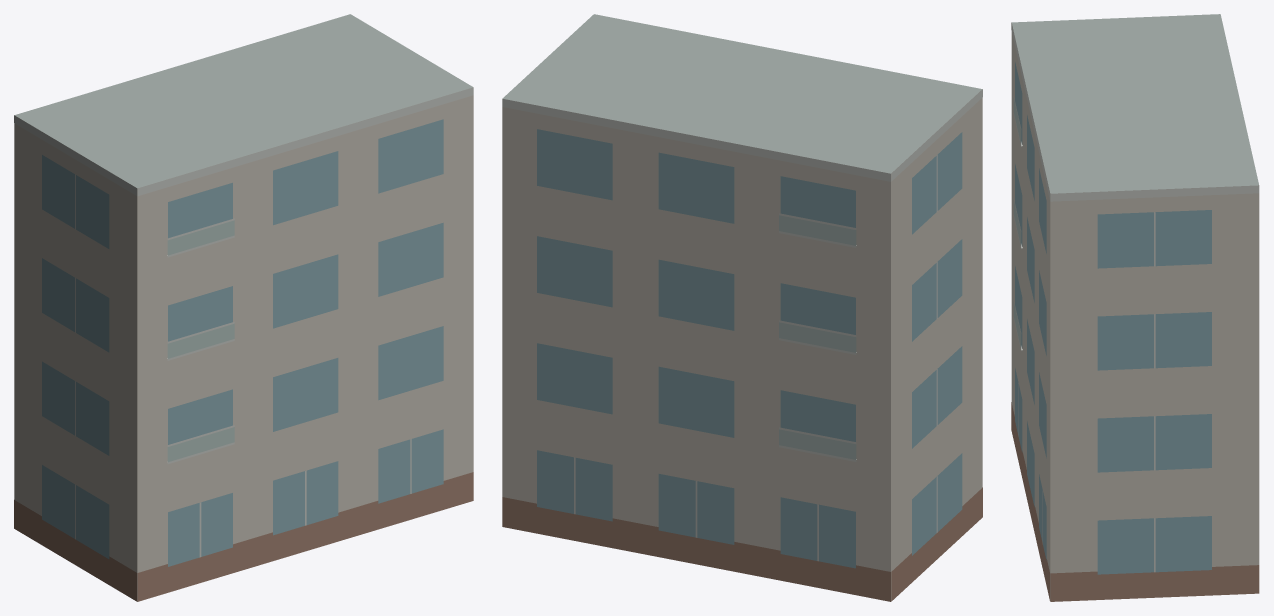
Rendered from survey-upis-32854384.glb.
3 views of the same model, side by side, from view 1: azimuth 30°, elevation 25°; view 2: azimuth 150°, elevation 25°; view 3: azimuth 270°, elevation 25° (orthographic). The views are drawn at different scales.
Parts seen in each view (by area): view 1: survey-upis-32854384.tmp; view 2: survey-upis-32854384.tmp; view 3: survey-upis-32854384.tmp.
Boxes of the visible parts, x1=… form: survey-upis-32854384.tmp: x1=14, y1=14, x2=473, y2=601; survey-upis-32854384.tmp: x1=502, y1=14, x2=982, y2=601; survey-upis-32854384.tmp: x1=1011, y1=14, x2=1259, y2=601.
Size of the model in its own units: 12 by 12.7 by 6.99.
